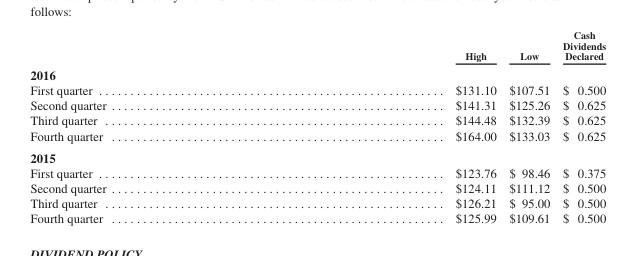table: (29, 29, 605, 224)
table column: (29, 29, 280, 224), (280, 29, 502, 224), (502, 29, 555, 224), (555, 29, 605, 224)
table column header: (29, 29, 605, 64)
table projected row header: (29, 64, 605, 82), (29, 146, 605, 164)
table row: (29, 29, 605, 64), (29, 127, 605, 146), (29, 64, 605, 82), (29, 146, 605, 164), (29, 179, 605, 195), (29, 82, 605, 97), (29, 97, 605, 112), (29, 112, 605, 127), (29, 164, 605, 179), (29, 195, 605, 210), (29, 210, 605, 224)
